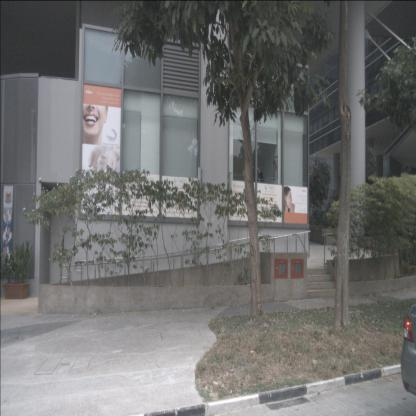vehicle-car: (401, 302, 415, 401)
